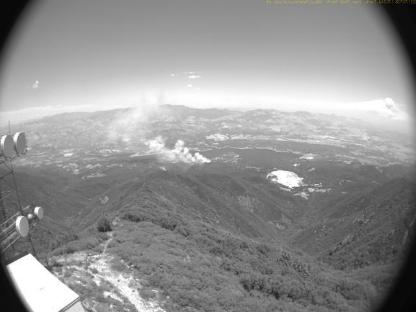smoke: (102, 83, 216, 169)
